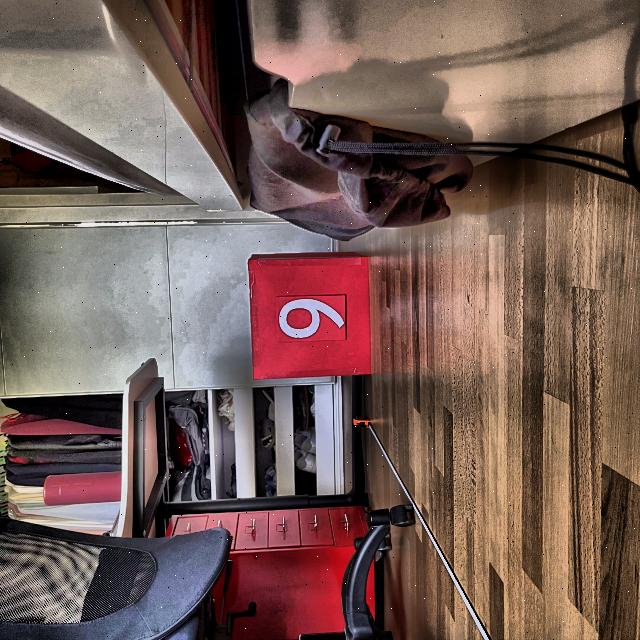nine: (279, 299, 345, 339)
red box: (245, 251, 374, 383)
